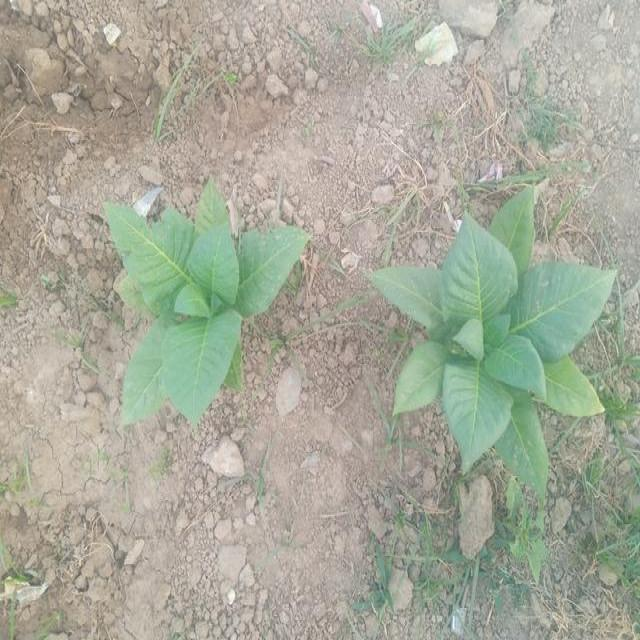crop: (370, 179, 612, 493), (103, 175, 311, 424)
